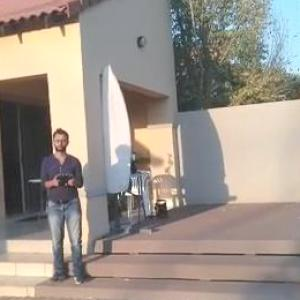follow: (38, 123, 92, 288)
